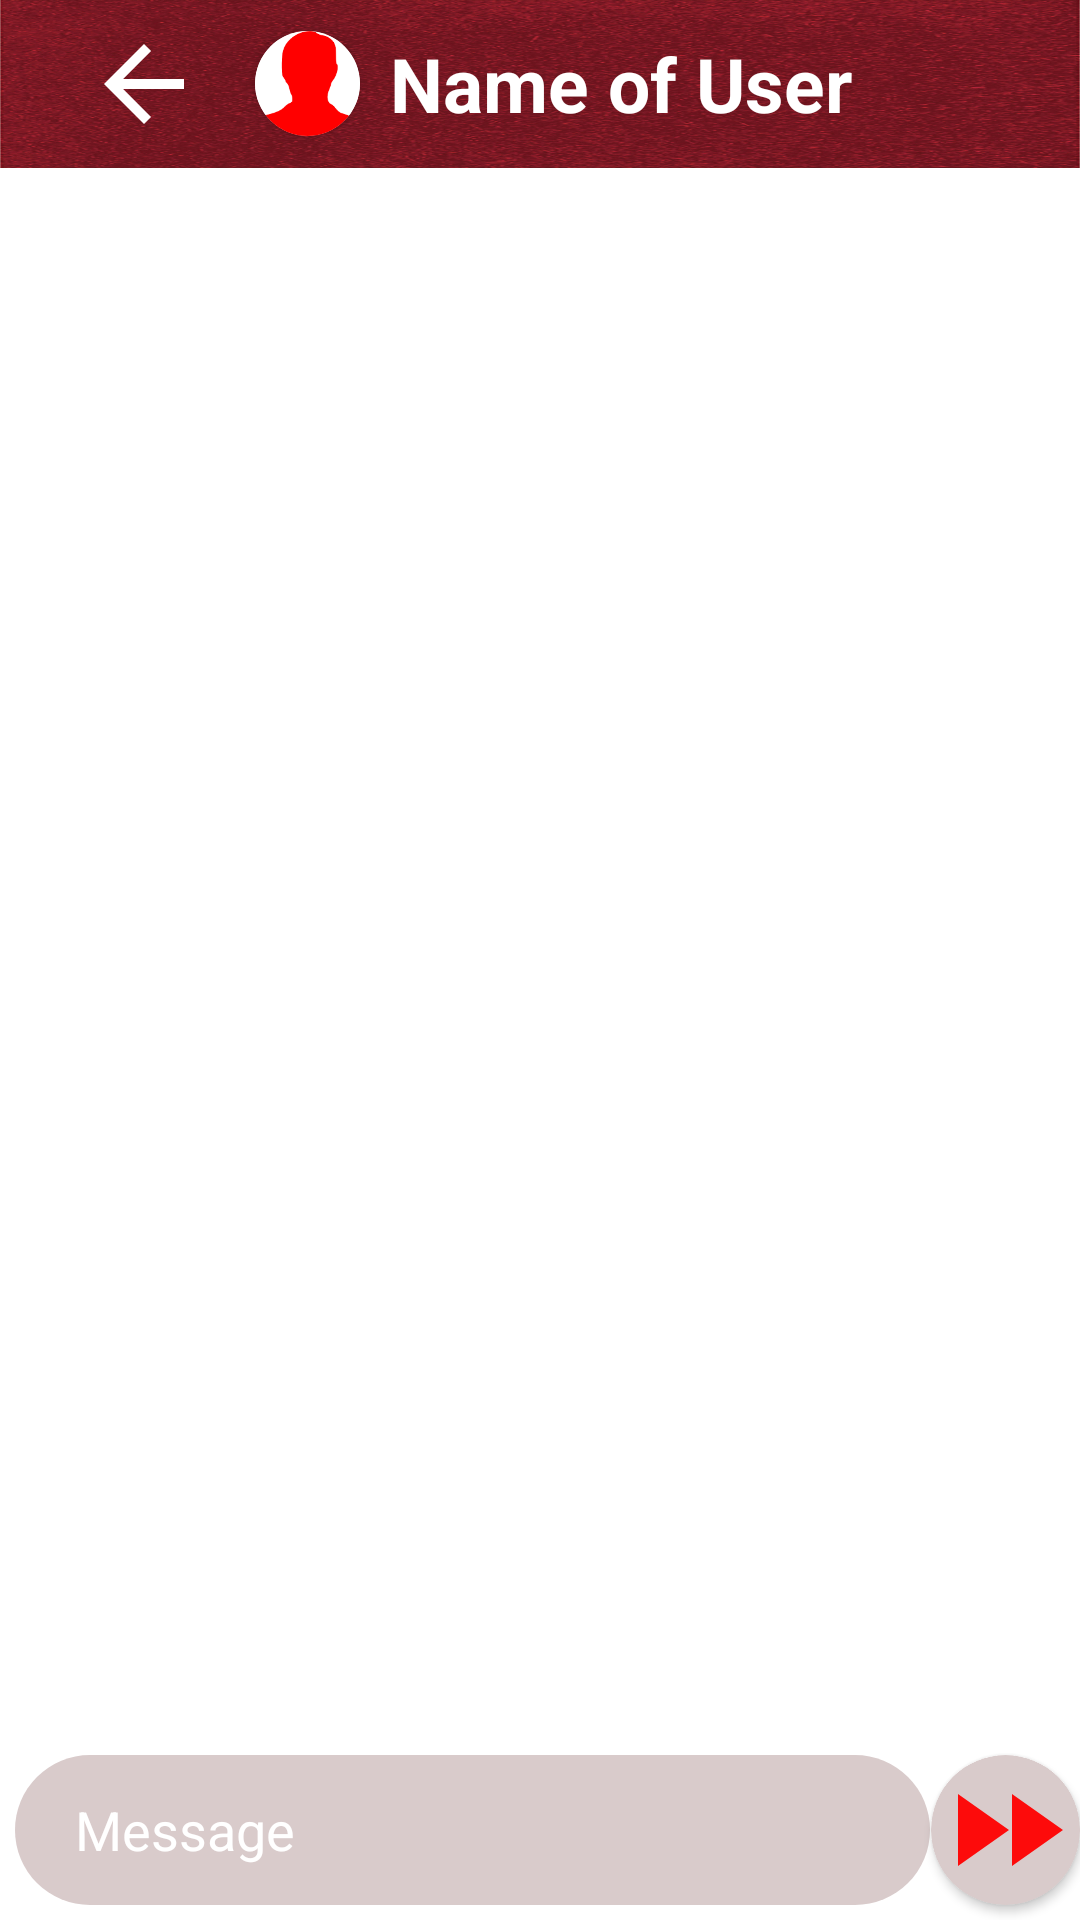

Icon bounding boxes for this 1080px×1920px phone screenshot, format (x1, y1, x2, y2):
fast forward: (931, 1755, 1080, 1905)
